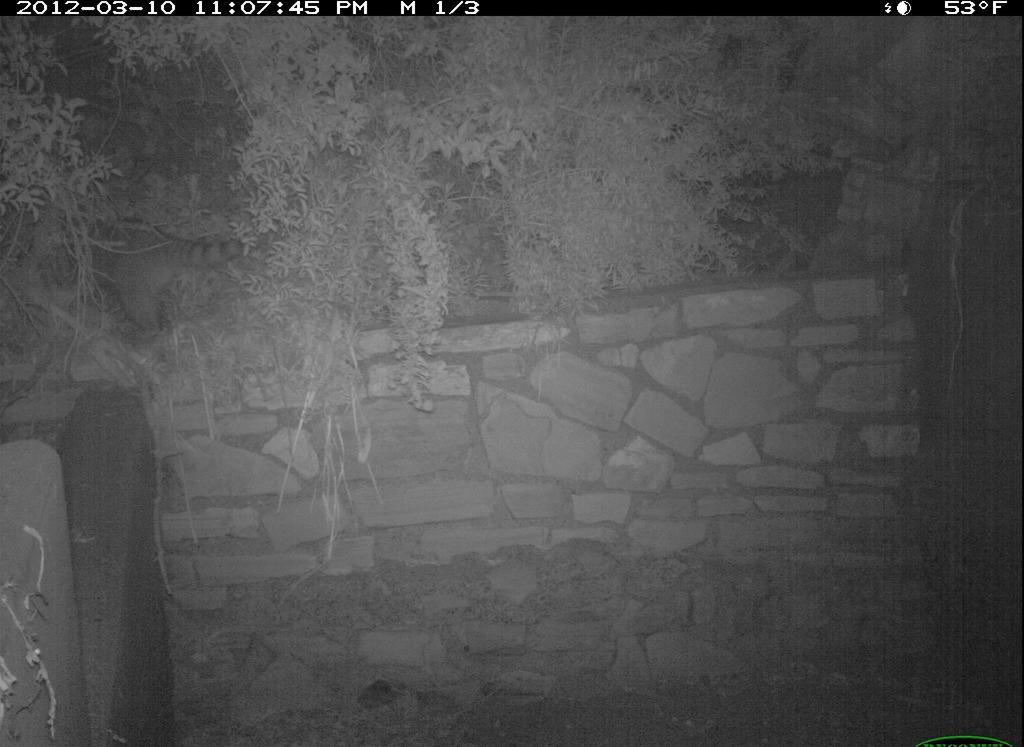raccoon: (24, 204, 263, 349)
